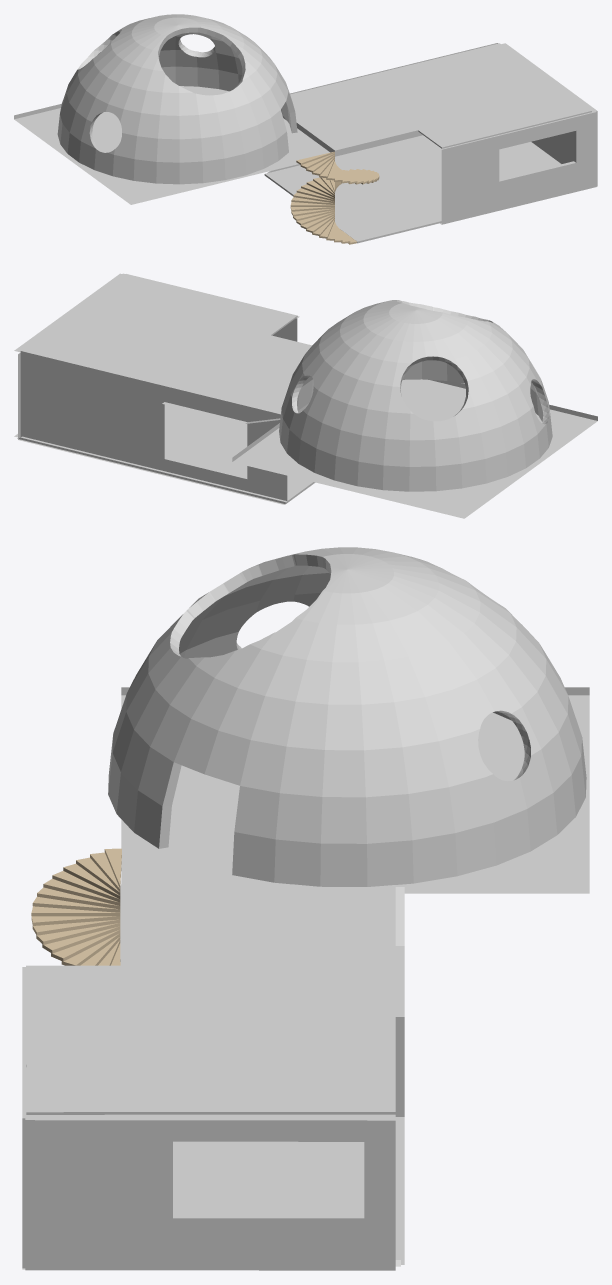
Rendered from staircaseMATMOD.glb.
3 renders of one model, top to bottom at view 1: azimuth 30°, elevation 25°; view 2: azimuth 150°, elevation 25°; view 3: azimuth 270°, elevation 25°, orthographic. The views are drawn at different scales.
Visible parts, largest first — view 1: Room1, Room2, Ground, Staircase; view 2: Room1, Room2, Ground; view 3: Room1, Room2, Ground, Staircase.
Part boxes in pixels (box(x1,y1,x2,y2)): Room1: box(264, 43, 597, 243); Room2: box(57, 14, 297, 184); Ground: box(14, 86, 333, 204); Staircase: box(290, 151, 379, 244); Room1: box(14, 273, 315, 504); Room2: box(279, 300, 552, 491); Ground: box(232, 379, 597, 518); Room1: box(22, 884, 404, 1270); Room2: box(108, 547, 586, 886); Ground: box(121, 687, 589, 893); Staircase: box(31, 848, 121, 965).
Size of the model in its own units: 11.54 by 4.59 by 6.39.
1 material, 1 textured.
